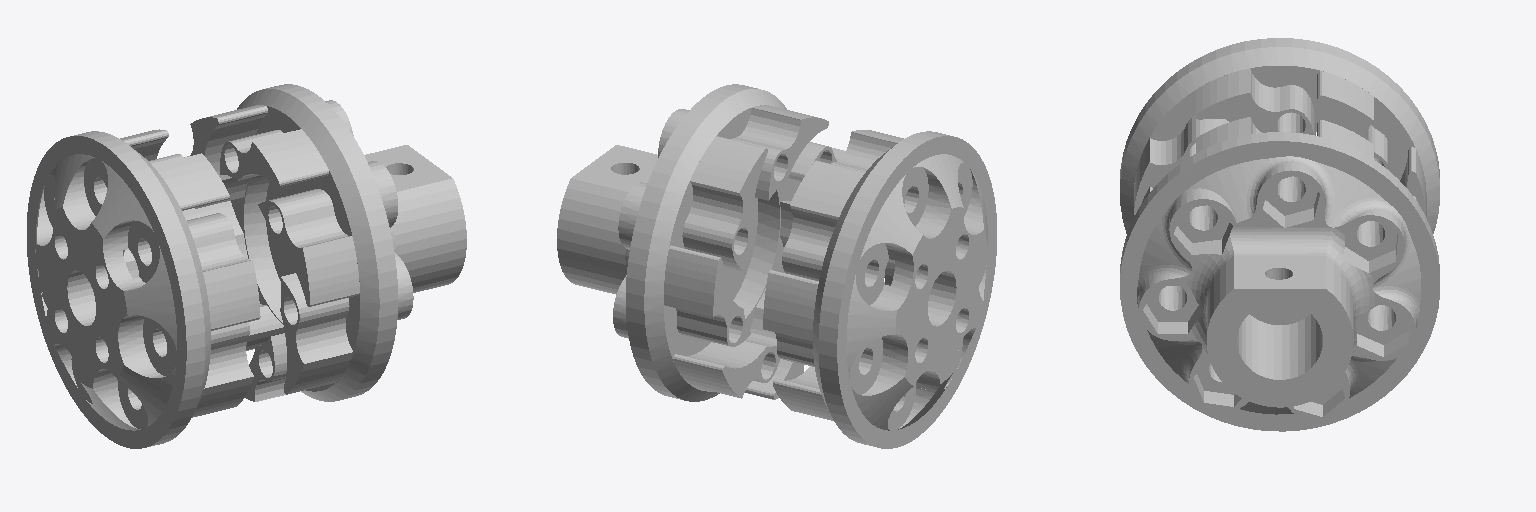
File: adapter.obj
3 renders of one model, left to right at view 1: azimuth 30°, elevation 25°; view 2: azimuth 150°, elevation 25°; view 3: azimuth 270°, elevation 25°, orthographic.
Parts seen in each view (by area): view 1: Твердое тело5:1, Твердое тело5; view 2: Твердое тело5:1, Твердое тело5; view 3: Твердое тело5, Твердое тело5:1.
Boxes of the visible parts, box(x1,y1,x2,y2) form: Твердое тело5:1: box(27, 129, 260, 448); Твердое тело5: box(182, 84, 466, 401); Твердое тело5:1: box(763, 130, 996, 448); Твердое тело5: box(557, 84, 845, 401); Твердое тело5: box(1120, 117, 1439, 431); Твердое тело5:1: box(1120, 38, 1439, 233).
Size of the model in its own units: 56 by 44.61 by 44.6.